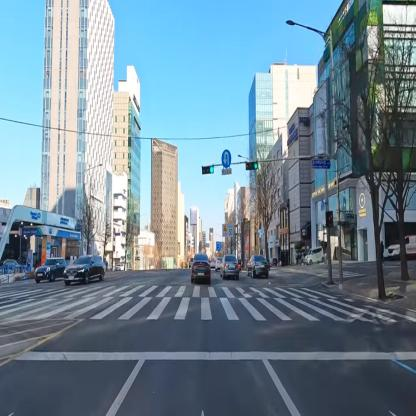Green: (200, 165, 215, 175), (244, 161, 258, 170)
